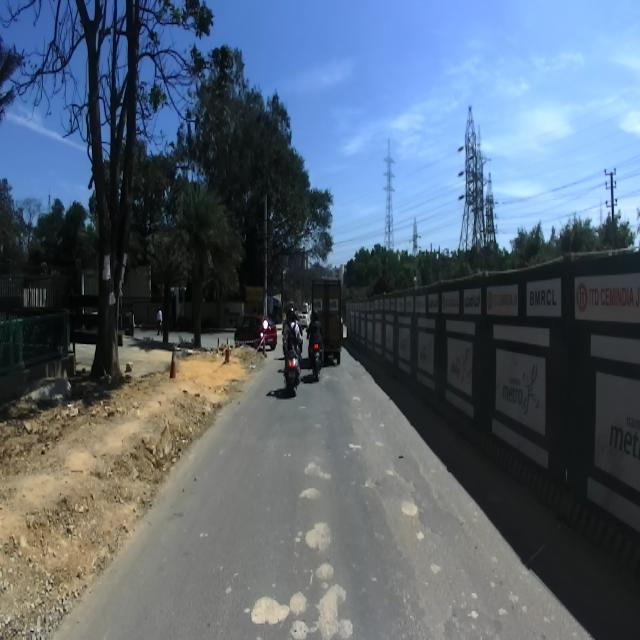barrier ahead at: (358, 246, 640, 554)
motorcycle ahead at: (274, 348, 308, 403)
